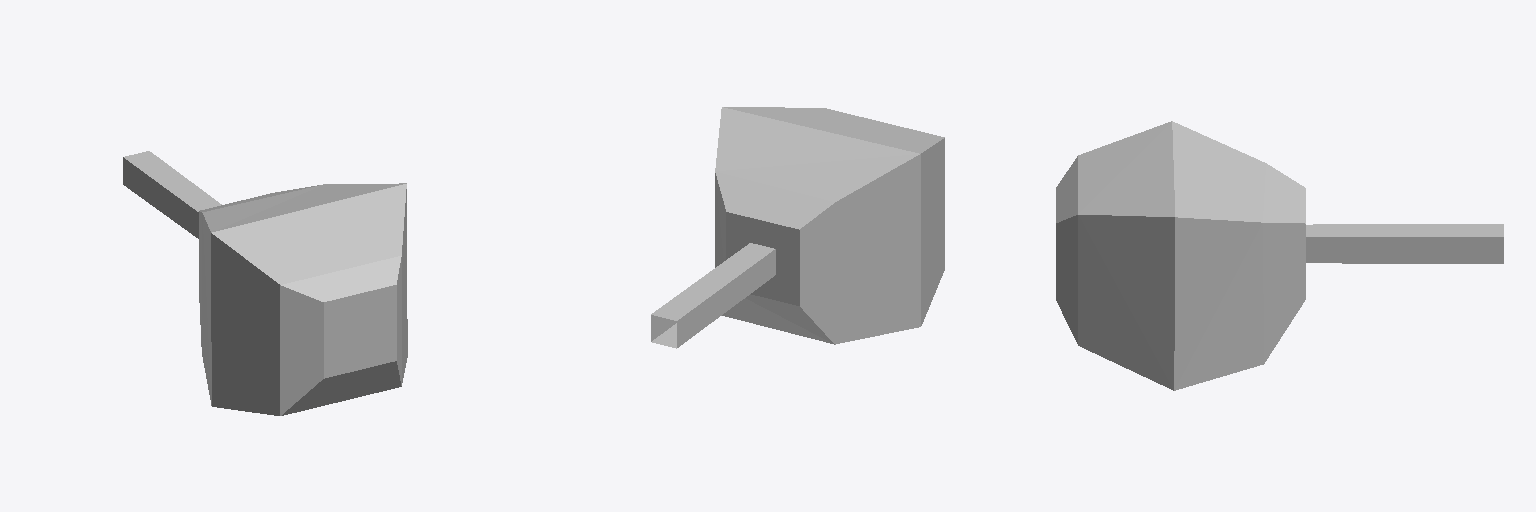
The model's file is Tree02.obj.
3 renders of one model, left to right at view 1: azimuth 30°, elevation 25°; view 2: azimuth 150°, elevation 25°; view 3: azimuth 270°, elevation 25°, orthographic.
Parts seen in each view (by area): view 1: Tree02; view 2: Tree02; view 3: Tree02.
Part boxes in pixels (bbox=[...]): Tree02: bbox=[123, 151, 407, 415]; Tree02: bbox=[651, 107, 944, 348]; Tree02: bbox=[1056, 121, 1503, 390].
Bounding box in the file's own units: 2.22 × 1.86 × 4.36.